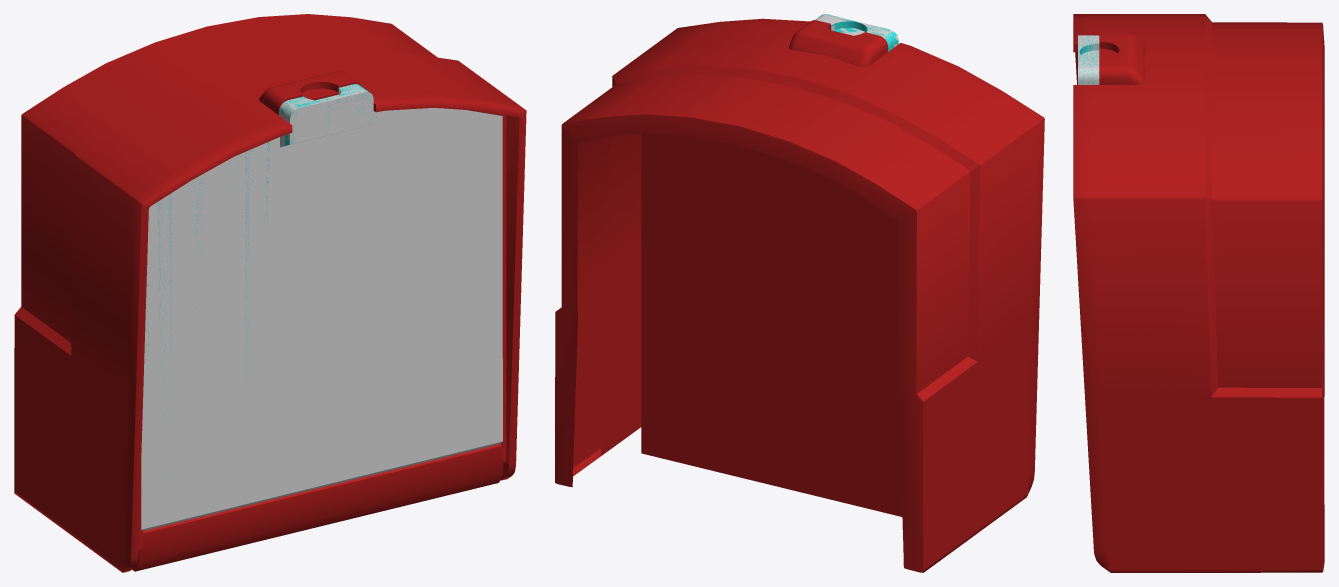
File: knopka.fbx
3 views of the same model, side by side, from view 1: azimuth 30°, elevation 25°; view 2: azimuth 150°, elevation 25°; view 3: azimuth 270°, elevation 25° (orthographic). The views are drawn at different scales.
Parts seen in each view (by area): view 1: Knopka_1_glass_LOD0, Knopka_1_005_LOD0, Knopka_1_006_LOD0; view 2: Knopka_1_005_LOD0, Knopka_1_glass_LOD0, Knopka_1_006_LOD0; view 3: Knopka_1_005_LOD0, Knopka_1_glass_LOD0, Knopka_1_006_LOD0.
Boxes of the visible parts, <box> form: Knopka_1_glass_LOD0: <box>141,84,502,530</box>; Knopka_1_005_LOD0: <box>14,14,526,572</box>; Knopka_1_006_LOD0: <box>138,84,506,550</box>; Knopka_1_005_LOD0: <box>555,18,1044,572</box>; Knopka_1_glass_LOD0: <box>815,14,898,47</box>; Knopka_1_006_LOD0: <box>819,14,898,51</box>; Knopka_1_005_LOD0: <box>1073,14,1324,572</box>; Knopka_1_glass_LOD0: <box>1078,35,1099,84</box>; Knopka_1_006_LOD0: <box>1078,35,1099,84</box>.
Size of what is drawn, in the model's own units: 5.69 by 6.21 by 3.28.
